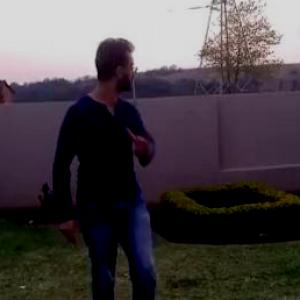takeoff-hand: (124, 120, 156, 163)
